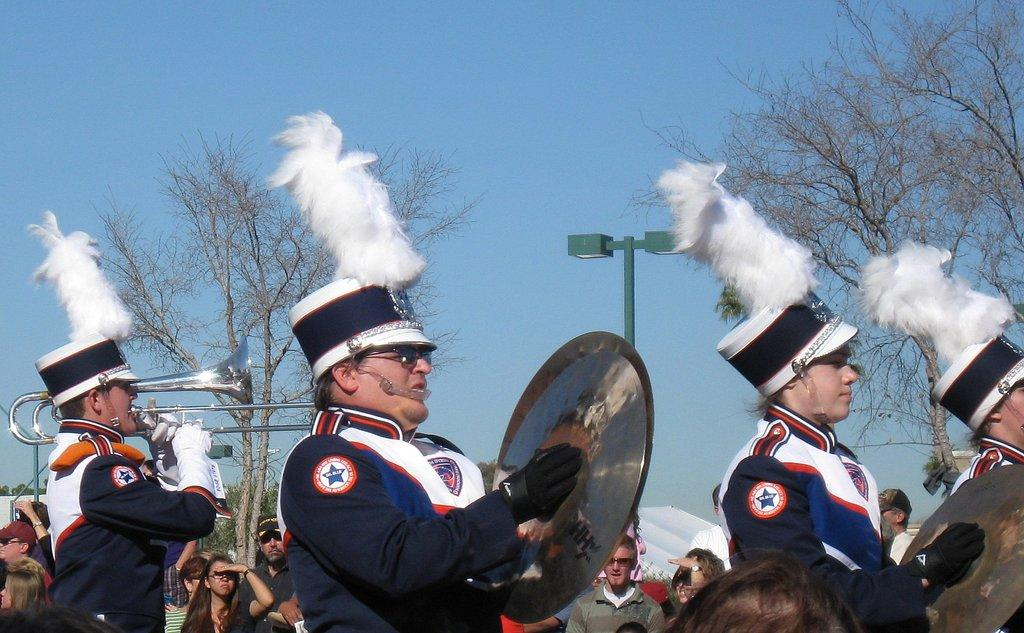Hat: (652, 160, 858, 428), (261, 108, 431, 401), (859, 236, 1023, 436), (26, 205, 140, 434), (0, 521, 36, 547), (877, 484, 910, 510), (256, 516, 281, 538)
